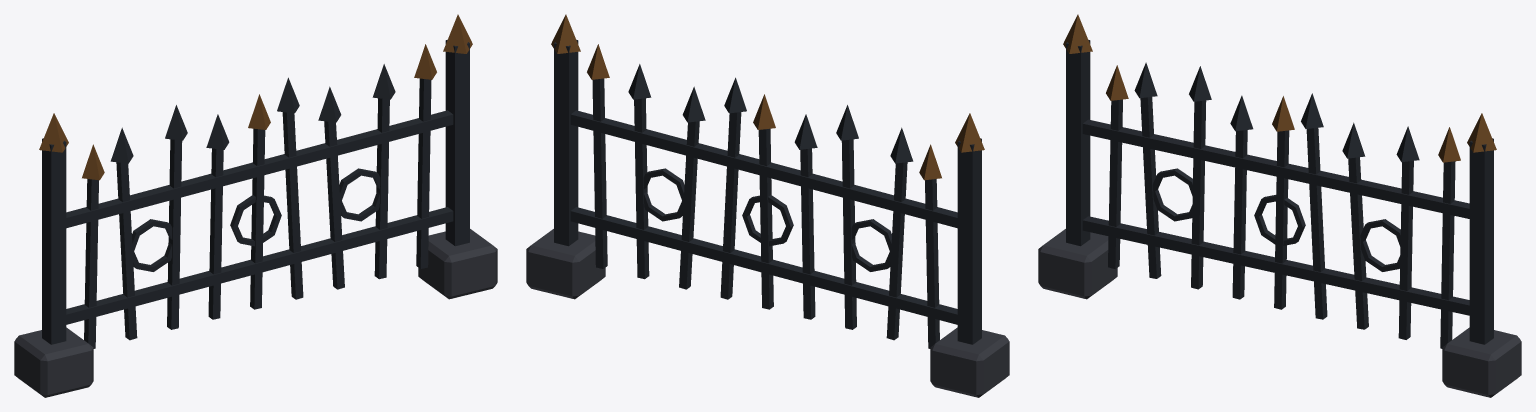
File: Crooked_Iron_Fence.glb
3 renders of one model, left to right at view 1: azimuth 30°, elevation 25°; view 2: azimuth 150°, elevation 25°; view 3: azimuth 330°, elevation 25°, orthographic.
Visible parts, largest first — view 1: Crooked_Iron_Fence; view 2: Crooked_Iron_Fence; view 3: Crooked_Iron_Fence.
Boxes of the visible parts, x1,y1,x2,y2 form: Crooked_Iron_Fence: (14,14,497,397); Crooked_Iron_Fence: (526,14,1009,397); Crooked_Iron_Fence: (1038,14,1521,397).
Bounding box in the file's own units: 3.96 × 2.24 × 0.47.
